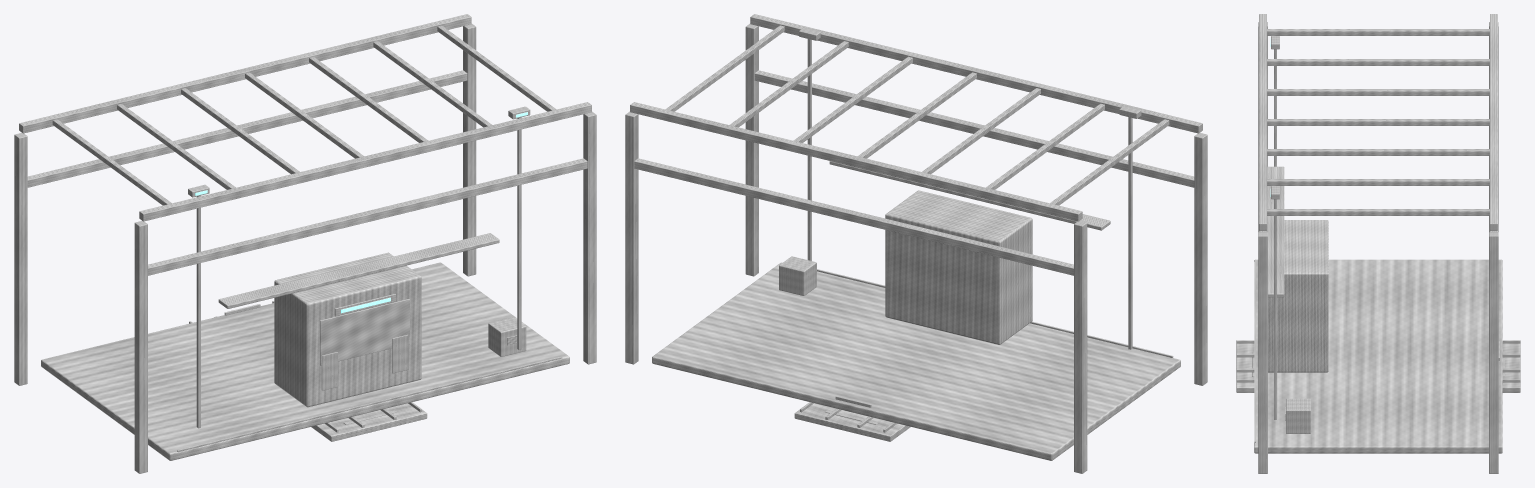
The model's file is train_station_variant_c.glb.
3 renders of one model, left to right at view 1: azimuth 30°, elevation 25°; view 2: azimuth 150°, elevation 25°; view 3: azimuth 270°, elevation 25°, orthographic. The views are drawn at different scales.
Visible parts, largest first — view 1: Raised service platform.002, Control module.003, Open truss beam.002, Open truss beam, Open truss beam.003, Open truss beam.001, Control room glazing.003, Platform service canopy.002, Open frame post.001, Open frame post, Open frame post.002, Open frame post.003 (+14 smaller); view 2: Raised service platform.002, Control module.003, Open truss beam.003, Open truss beam.001, Open truss beam.002, Open truss beam, Open frame post, Open frame post.001, Open frame post.003, Open frame post.002, Track bed.002, Platform service canopy.002 (+10 smaller); view 3: Raised service platform.002, Control module.003, Open frame post.002, Open frame post.003, Open truss beam.002, Open truss beam.003, Platform service canopy.002, Roof truss rib, Roof truss rib.001, Roof truss rib.002, Roof truss rib.003, Roof truss rib.004 (+8 smaller).
Boxes of the visible parts, box(x1,y1,x2,y2) form: Raised service platform.002: box(41, 262, 569, 460); Control module.003: box(274, 252, 421, 407); Open truss beam.002: box(139, 102, 591, 221); Open truss beam: box(148, 158, 587, 275); Open truss beam.003: box(19, 14, 471, 133); Open truss beam.001: box(27, 70, 467, 187); Control room glazing.003: box(320, 299, 409, 365); Platform service canopy.002: box(218, 233, 499, 308); Open frame post.001: box(14, 133, 27, 385); Open frame post: box(134, 221, 147, 473); Open frame post.002: box(583, 111, 596, 364); Open frame post.003: box(463, 23, 476, 276); Raised service platform.002: box(652, 262, 1180, 460); Control module.003: box(885, 190, 1032, 344); Open truss beam.003: box(630, 102, 1082, 221); Open truss beam.001: box(634, 158, 1073, 275); Open truss beam.002: box(750, 14, 1202, 133); Open truss beam: box(754, 70, 1194, 187); Open frame post: box(1194, 133, 1207, 385); Open frame post.001: box(1074, 221, 1087, 473); Open frame post.003: box(625, 111, 638, 364); Open frame post.002: box(745, 23, 758, 276); Track bed.002: box(794, 403, 910, 441); Platform service canopy.002: box(829, 161, 1110, 230); Raised service platform.002: box(1254, 259, 1502, 453); Control module.003: box(1268, 220, 1328, 372); Open frame post.002: box(1258, 232, 1267, 473); Open frame post.003: box(1489, 232, 1498, 473); Open truss beam.002: box(1259, 14, 1266, 230); Open truss beam.003: box(1490, 14, 1497, 230); Platform service canopy.002: box(1267, 166, 1284, 297); Roof truss rib: box(1267, 29, 1489, 35); Roof truss rib.001: box(1267, 59, 1489, 65); Roof truss rib.002: box(1267, 89, 1489, 95); Roof truss rib.003: box(1267, 119, 1489, 125); Roof truss rib.004: box(1267, 149, 1489, 155).
Size of what is drawn, in the model's own units: 28.55 by 15.9 by 16.
Materials: 7 (7 with a texture image).
